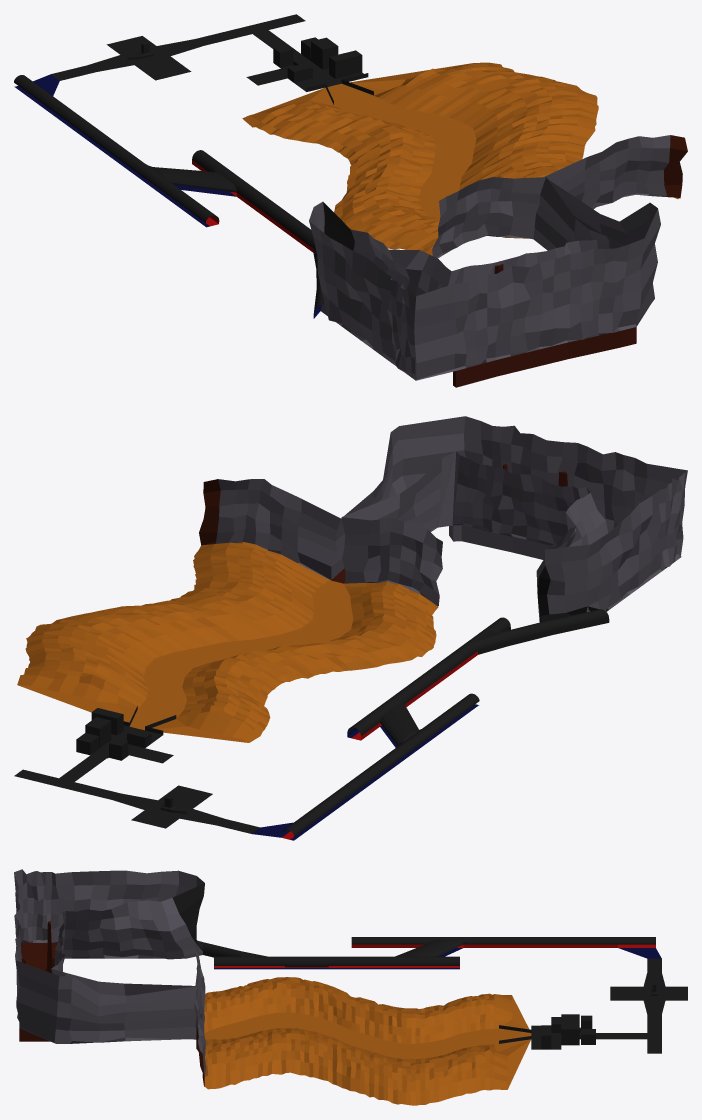
The model's file is trackv2.obj.
3 renders of one model, top to bottom at view 1: azimuth 30°, elevation 25°; view 2: azimuth 150°, elevation 25°; view 3: azimuth 270°, elevation 25°, orthographic. The views are drawn at different scales.
Parts seen in each view (by area): view 1: Grid; view 2: Grid; view 3: Grid.
Boxes of the visible parts, bbox=[...] form: Grid: bbox=[14, 14, 687, 387]; Grid: bbox=[14, 416, 687, 840]; Grid: bbox=[14, 869, 687, 1105].
Bounding box in the file's own units: 1091 × 257 × 1836.
